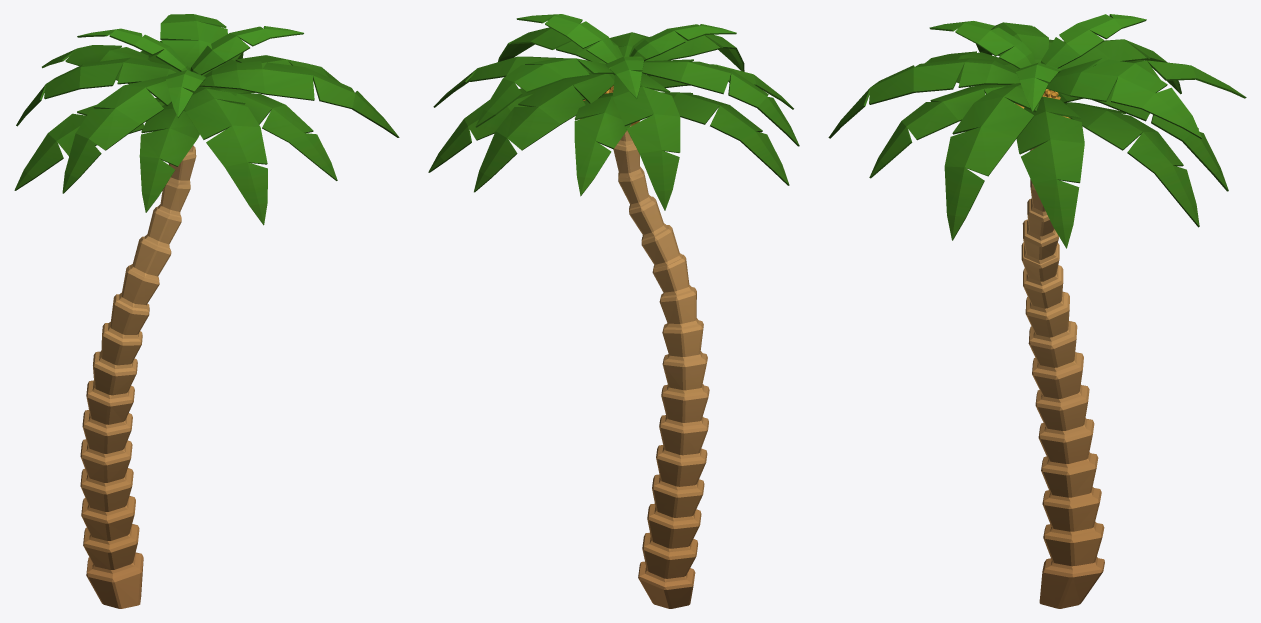
File: palm_curve.glb
3 renders of one model, left to right at view 1: azimuth 30°, elevation 25°; view 2: azimuth 150°, elevation 25°; view 3: azimuth 270°, elevation 25°, orthographic. The views are drawn at different scales.
Visible parts, largest first — view 1: Palm_1_AA; view 2: Palm_1_AA; view 3: Palm_1_AA.
Part boxes in pixels (<box>): Palm_1_AA: <box>14,14,399,608</box>; Palm_1_AA: <box>428,14,799,608</box>; Palm_1_AA: <box>828,14,1246,608</box>.
Bounding box in the file's own units: 3.48 × 5.2 × 3.34.
Materials: 1 (1 with a texture image).
